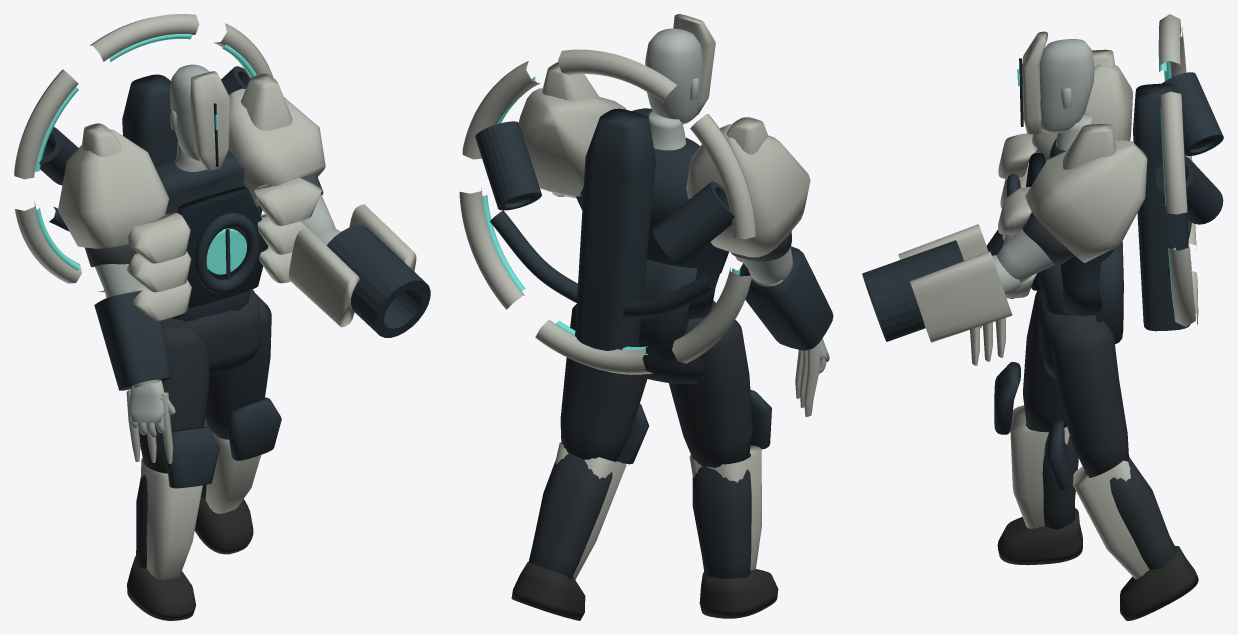
Rendered from enemy-lab-finalboss.glb.
3 renders of one model, left to right at view 1: azimuth 30°, elevation 25°; view 2: azimuth 150°, elevation 25°; view 3: azimuth 270°, elevation 25°, orthographic. The views are drawn at different scales.
Visible parts, largest first — view 1: Final shoulder armor_-1, Pulse cannon bore, Final shoulder armor_1, Final talon bracer, Segmented final greave_-1, Trouser thigh_L, Cannon cheek plate_-1, Pulse sternum housing, Waist, Dorsal pulse chamber, Trouser thigh_R, Final faceless mask (+29 smaller); view 2: Dorsal pulse chamber, Trouser thigh_L, Final shoulder armor_-1, Trouser thigh_R, Final shoulder armor_1, Trouser shin_R, Trouser shin_L, Final talon bracer, Chest, Anatomical head, Final salvo barrel_1, Final salvo barrel_-1 (+23 smaller); view 3: Final shoulder armor_1, Trouser thigh_R, Dorsal pulse chamber, Cannon cheek plate_1, Pulse cannon bore, Anatomical head, Segmented final greave_1, Trouser shin_R, Segmented final greave_-1, Shoe_L, Shoe_R, Final shoulder armor_-1 (+21 smaller).
Boxes of the visible parts, x1,y1,x2,y2 form: Final shoulder armor_-1: (58, 129, 168, 248); Pulse cannon bore: (327, 225, 430, 337); Final shoulder armor_1: (228, 88, 325, 210); Final talon bracer: (94, 290, 171, 390); Segmented final greave_-1: (141, 458, 202, 579); Trouser thigh_L: (138, 328, 209, 473); Cannon cheek plate_-1: (289, 227, 359, 327); Pulse sternum housing: (177, 187, 268, 308); Waist: (162, 289, 262, 376); Dorsal pulse chamber: (122, 74, 177, 167); Trouser thigh_R: (205, 293, 271, 437); Final faceless mask: (190, 71, 230, 170); Dorsal pulse chamber: (575, 108, 655, 371); Trouser thigh_L: (669, 319, 752, 467); Final shoulder armor_-1: (686, 124, 810, 257); Trouser thigh_R: (560, 304, 647, 461); Final shoulder armor_1: (518, 88, 626, 198); Trouser shin_R: (528, 453, 612, 578); Trouser shin_L: (692, 453, 751, 578); Final talon bracer: (739, 246, 833, 350); Chest: (576, 137, 727, 318); Anatomical head: (645, 28, 703, 124); Final salvo barrel_1: (475, 121, 541, 210); Final salvo barrel_-1: (652, 181, 734, 264); Final shoulder armor_1: (1025, 140, 1147, 262); Trouser thigh_R: (1051, 321, 1128, 476); Dorsal pulse chamber: (1133, 83, 1190, 331); Cannon cheek plate_1: (910, 251, 1012, 342); Pulse cannon bore: (862, 240, 963, 341); Anatomical head: (1040, 39, 1094, 133); Segmented final greave_1: (1072, 456, 1149, 579); Trouser shin_R: (1085, 457, 1176, 569); Segmented final greave_-1: (1010, 405, 1069, 528); Shoe_L: (997, 508, 1082, 565); Shoe_R: (1120, 546, 1198, 620); Final shoulder armor_-1: (1031, 64, 1132, 161).
Bounding box in the file's own units: 0.9675 × 1.79 × 1.05.
